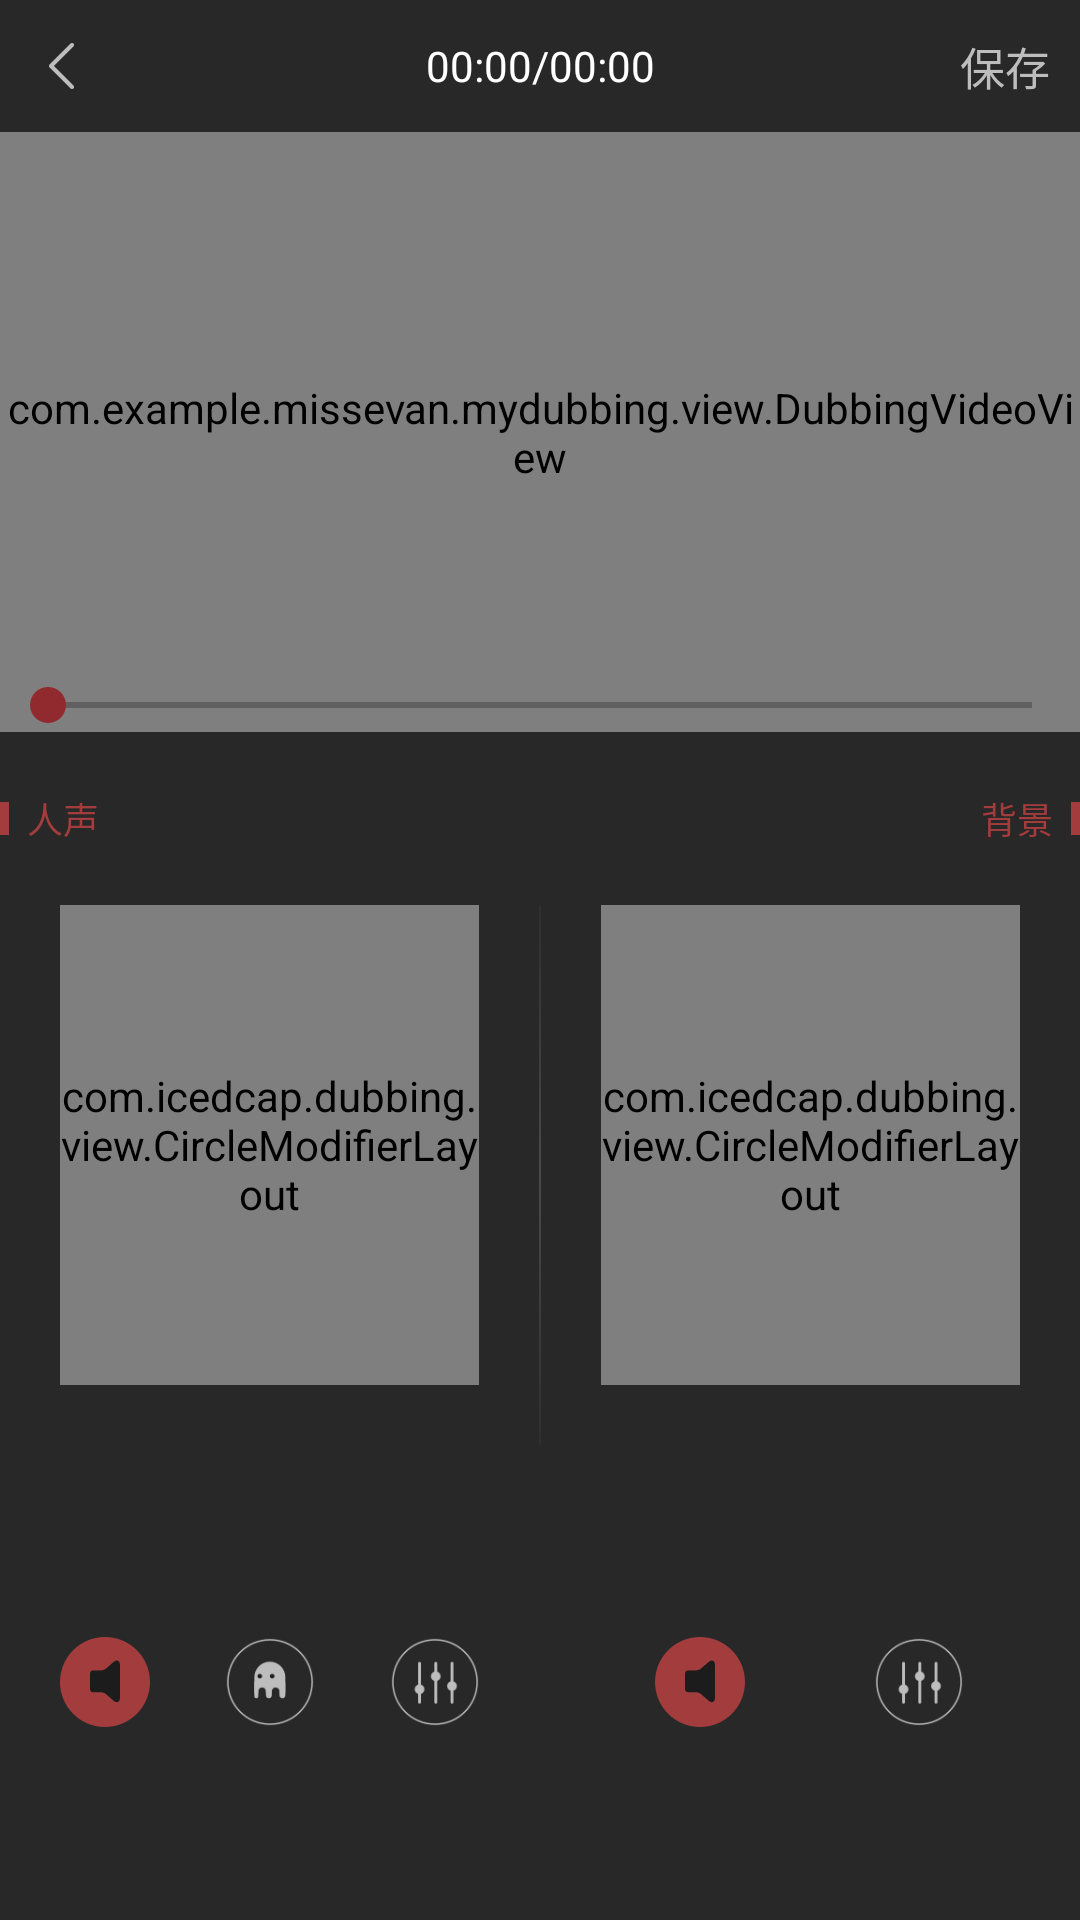

Icons on this 1080px x 1920px Android screen, each with the point to tap as point (x, y):
control voice: point (435, 1682), point (919, 1682)
dubbing cancel: point (61, 66)
modify volume: point (105, 1682), point (700, 1682)
